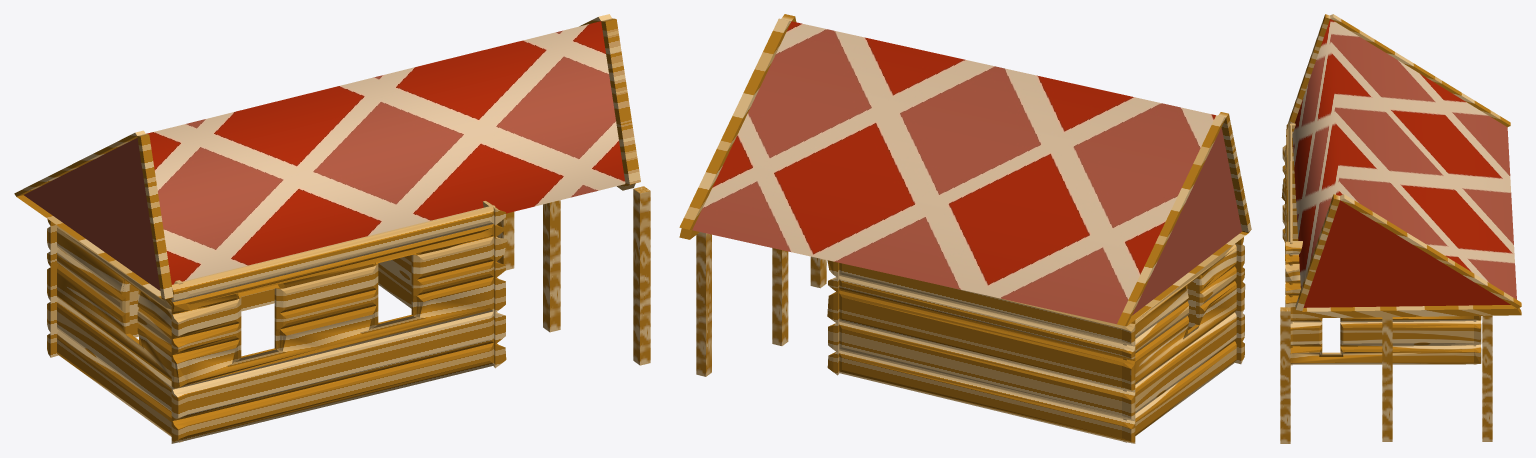
The model's file is WaxWorld_Cabin.fbx.
3 views of the same model, side by side, from view 1: azimuth 30°, elevation 25°; view 2: azimuth 150°, elevation 25°; view 3: azimuth 270°, elevation 25° (orthographic). The views are drawn at different scales.
Parts seen in each view (by area): view 1: Object001, Cabin003, Object003, Cylinder001, Box001, Box003, Box002; view 2: Object001, Cabin003, Cylinder001, Object003, Box002, Box003; view 3: Object001, Object002, Cabin003, Cylinder001, Box001, Box002, Box003.
Part boxes in pixels (x1,y1,x2,y2): Object001: (146,21,625,284); Cabin003: (47,201,507,443); Object003: (24,138,160,290); Cylinder001: (14,14,640,299); Box001: (633,186,650,365); Box003: (543,200,560,332); Box002: (497,211,514,270); Object001: (692,21,1215,324); Cabin003: (827,237,1245,443); Cylinder001: (679,14,1251,326); Object003: (1132,127,1241,315); Box002: (696,232,711,376); Box003: (772,248,788,345); Object001: (1292,19,1516,299); Object002: (1303,200,1510,307); Cabin003: (1281,121,1481,365); Cylinder001: (1288,14,1521,318); Box001: (1280,307,1290,443); Box002: (1482,315,1492,441); Box003: (1382,317,1392,441).
Size of the model in its own units: 417 by 271 by 232.
Materials: 2 (2 with a texture image).
